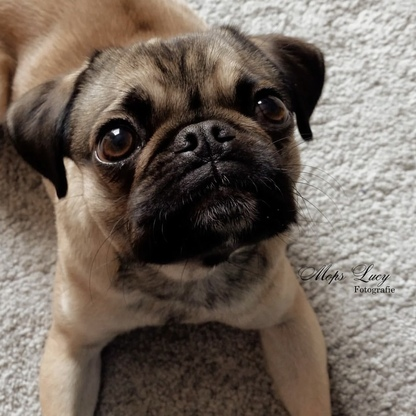Pug: (1, 1, 343, 416)
